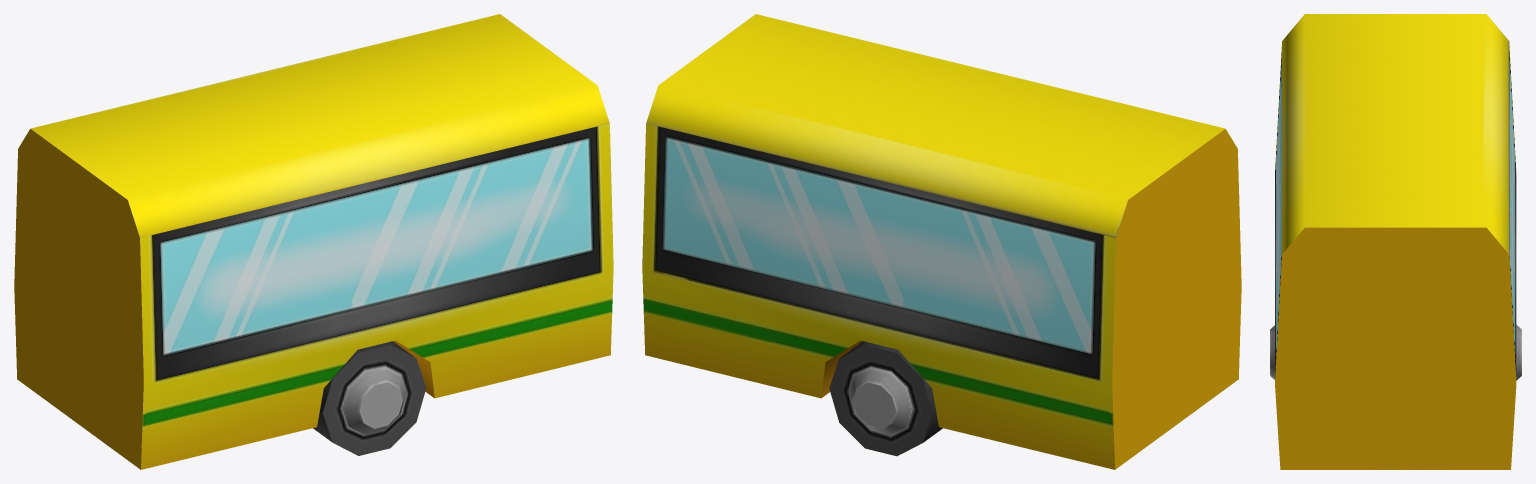
The model's file is buss_mid.gltf.
3 views of the same model, side by side, from view 1: azimuth 30°, elevation 25°; view 2: azimuth 150°, elevation 25°; view 3: azimuth 270°, elevation 25° (orthographic). The views are drawn at different scales.
Visible parts, largest first — view 1: buss_mid1; view 2: buss_mid1; view 3: buss_mid1.
Boxes of the visible parts, x1,y1,x2,y2 form: buss_mid1: (14,14,613,469); buss_mid1: (642,14,1241,469); buss_mid1: (1270,14,1521,469).
Size of the model in its own units: 0.03 by 0.0183 by 0.0149.
1 material, 1 textured.
